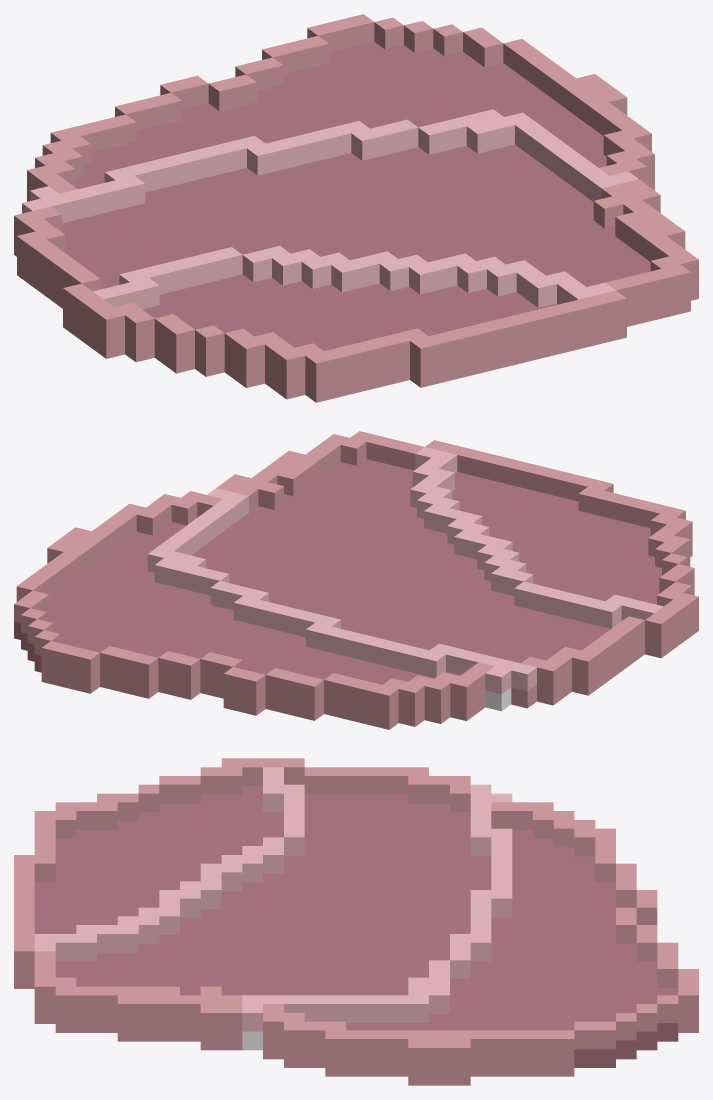
File: Pork.obj
The picture shows the model from 3 angles, top to bottom: view 1: azimuth 30°, elevation 25°; view 2: azimuth 150°, elevation 25°; view 3: azimuth 270°, elevation 25°; orthographic projection. The views are drawn at different scales.
Bounding box in the file's own units: 3.3 × 0.2 × 3.3.
Materials: 1 (1 with a texture image).
